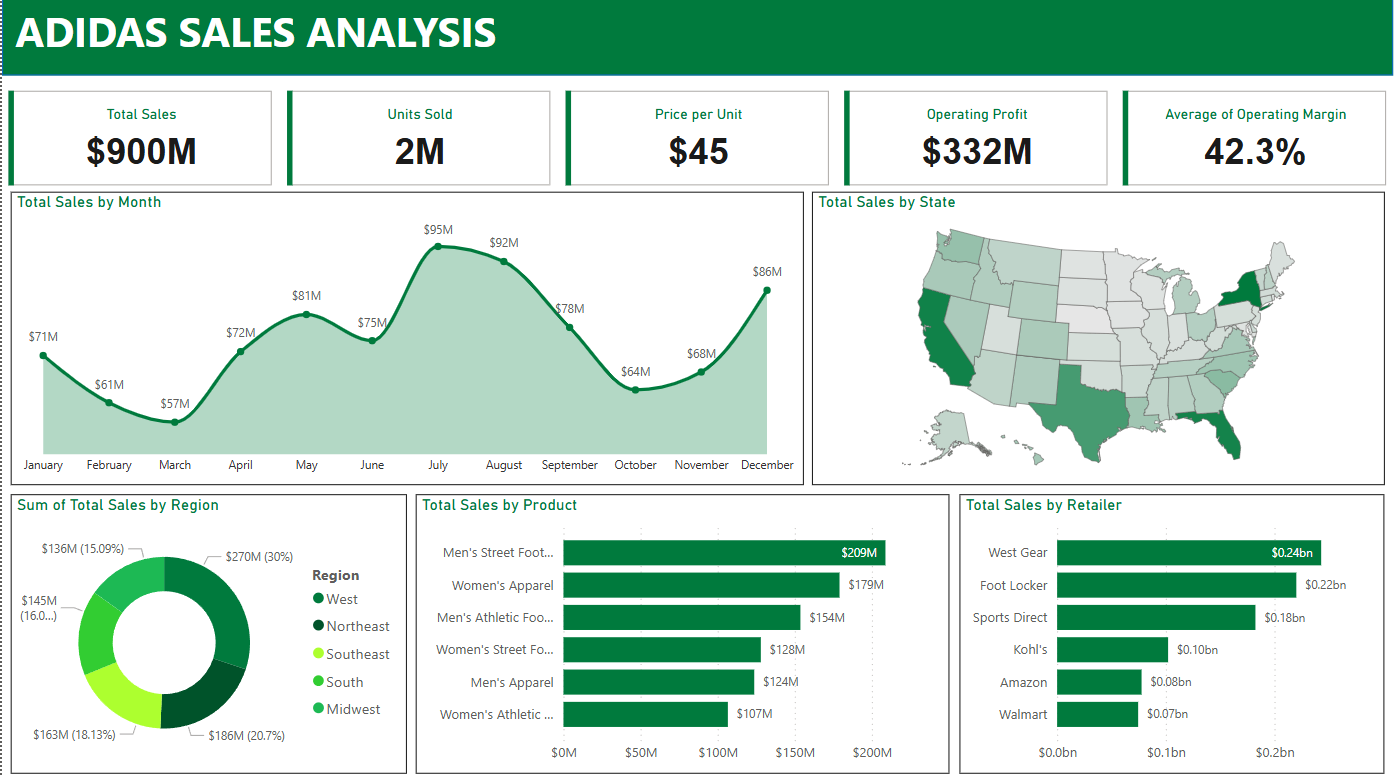

What the dashboard file says about the page in this screenshot:
{"tool":"powerbi","page":{"name":"Page 1","canvas":[1280,720],"ordinal":0},"visuals":[{"type":"shape","box":[0,0,1278.6,71.4],"z":0},{"type":"cardVisual","fields":{"Data":["Sum(Data Sales Adidas.Total Sales)","Sum(Data Sales Adidas.Units Sold)","Avg(Data Sales Adidas.Price per Unit)","Sum(Data Sales Adidas.Operating Profit)","Avg(Data Sales Adidas.Operating Margin)"]},"box":[1.2,80.2,1279.1,97.7],"z":1000},{"type":"textbox","box":[1.2,0,464,70.9],"z":2000},{"type":"areaChart","fields":{"Category":["Data Sales Adidas.Invoice Date.Variation.Date Hierarchy.Month"],"Y":["Sum(Data Sales Adidas.Total Sales)"]},"box":[8.1,177.9,729.1,269.8],"z":3000},{"type":"shapeMap","title":"Total Sales by State","fields":{"Category":["Data Sales Adidas.State"],"Value":["Sum(Data Sales Adidas.Total Sales)"]},"box":[744.2,177.9,526.7,269.8],"z":4000},{"type":"donutChart","fields":{"Category":["Data Sales Adidas.Region"],"Y":["Sum(Data Sales Adidas.Total Sales)"]},"box":[8.1,455.8,364,257],"z":5000},{"type":"barChart","fields":{"Y":["Sum(Data Sales Adidas.Total Sales)"],"Category":["Data Sales Adidas.Product"]},"box":[380.2,455.8,490.7,257],"z":5001},{"type":"barChart","fields":{"Y":["Sum(Data Sales Adidas.Total Sales)"],"Category":["Data Sales Adidas.Retailer"]},"box":[880.2,455.8,390.7,257],"z":5002}]}

Visuals, with their boxes in screenshot pixels (x1, y1, x2, y2), scaled from the page's 1280x720 canvas onto the 1394x775 screenshot:
shape: [0,0,1392,77]
cardVisual - Sum(Data Sales Adidas.Total Sales) x Sum(Data Sales Adidas.Units Sold): [1,86,1393,191]
textbox: [1,0,507,76]
areaChart - Data Sales Adidas.Invoice Date.Variation.Date Hierarchy.Month x Sum(Data Sales Adidas.Total Sales): [9,191,803,482]
"Total Sales by State" shapeMap: [810,191,1384,482]
donutChart - Data Sales Adidas.Region x Sum(Data Sales Adidas.Total Sales): [9,491,405,767]
barChart - Sum(Data Sales Adidas.Total Sales) x Data Sales Adidas.Product: [414,491,948,767]
barChart - Sum(Data Sales Adidas.Total Sales) x Data Sales Adidas.Retailer: [959,491,1384,767]
